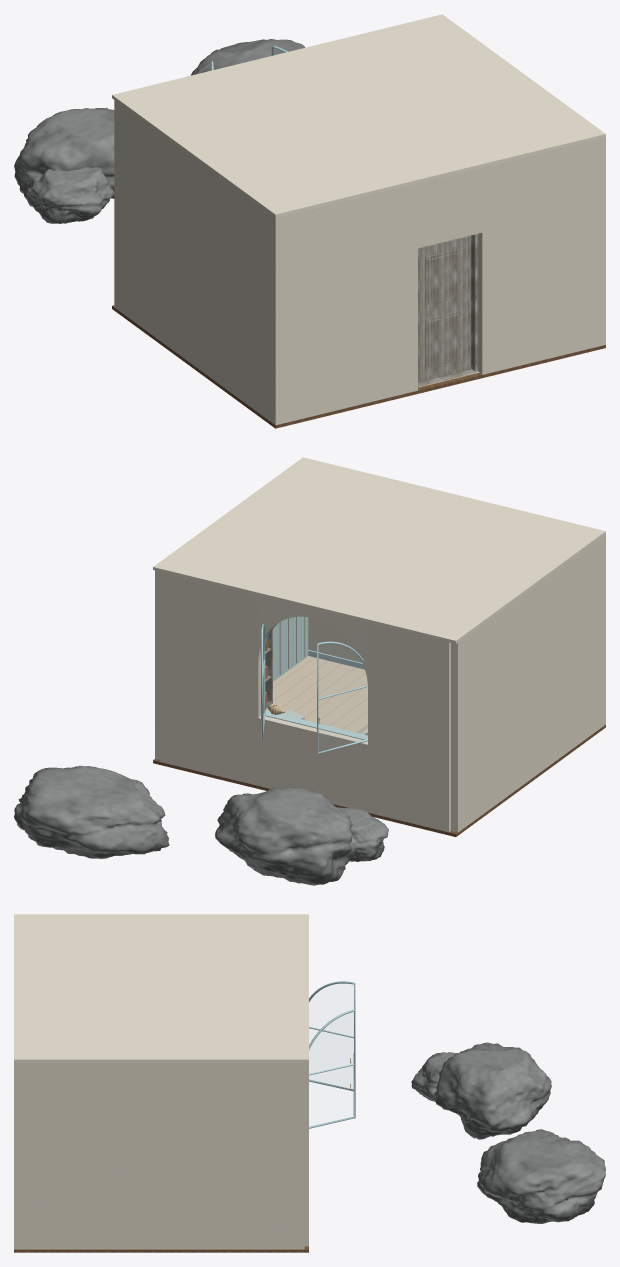
Rendered from beachfront.high.glb.
The picture shows the model from 3 angles, top to bottom: view 1: azimuth 30°, elevation 25°; view 2: azimuth 150°, elevation 25°; view 3: azimuth 270°, elevation 25°; orthographic projection. The views are drawn at different scales.
Parts seen in each view (by area): view 1: Room_Ceiling, Room_Wall_L, Room_Wall_F_L, Room_Wall_F_R, Beachfront_ShoreRock_0, Room_Wall_F_Top, Beachfront_ShoreRock_2, Door_Leaf, Room_Floor, Beachfront_ShoreRock_1, Door_Field_U_Inside, Door_Field_L_Inside (+3 smaller); view 2: Room_Ceiling, Room_Wall_L, Room_Wall_B_R, Room_Wall_B_L, Beachfront_ShoreRock_1, Beachfront_ShoreRock_0, Room_Wall_B_Bot, Beachfront_Arch_Wall, Beachfront_ShoreRock_2, Woodland_Static_moss_painted_joinery, Room_Floor, Room_Wall_F_R (+8 smaller); view 3: Room_Wall_R, Room_Ceiling, Beachfront_ShoreRock_1, Beachfront_ShoreRock_0, Room_Wall_F_R, Room_Floor, Beachfront_ShoreRock_2, Room_Wall_B_R, Beachfront_Casement_Right_Sash.
Part boxes in pixels (bbox=[...]): Room_Ceiling: bbox=[112, 14, 605, 217]; Room_Wall_L: bbox=[114, 100, 273, 421]; Room_Wall_F_L: bbox=[271, 183, 417, 425]; Room_Wall_F_R: bbox=[478, 137, 605, 374]; Beachfront_ShoreRock_0: bbox=[14, 107, 114, 198]; Room_Wall_F_Top: bbox=[418, 167, 482, 248]; Beachfront_ShoreRock_2: bbox=[26, 167, 114, 223]; Door_Leaf: bbox=[418, 235, 471, 382]; Room_Floor: bbox=[112, 305, 605, 428]; Beachfront_ShoreRock_1: bbox=[191, 39, 305, 75]; Door_Field_U_Inside: bbox=[428, 252, 460, 304]; Door_Field_L_Inside: bbox=[428, 314, 460, 366]; Room_Ceiling: bbox=[153, 457, 605, 643]; Room_Wall_L: bbox=[451, 536, 603, 832]; Room_Wall_B_R: bbox=[160, 572, 260, 785]; Room_Wall_B_L: bbox=[368, 622, 450, 832]; Beachfront_ShoreRock_1: bbox=[14, 765, 169, 858]; Beachfront_ShoreRock_0: bbox=[215, 787, 355, 885]; Room_Wall_B_Bot: bbox=[258, 716, 367, 812]; Beachfront_Arch_Wall: bbox=[258, 596, 367, 683]; Beachfront_ShoreRock_2: bbox=[337, 807, 388, 861]; Woodland_Static_moss_painted_joinery: bbox=[273, 616, 308, 681]; Room_Floor: bbox=[153, 724, 605, 836]; Room_Wall_F_R: bbox=[308, 617, 362, 662]; Room_Wall_R: bbox=[22, 1062, 304, 1249]; Room_Ceiling: bbox=[14, 914, 308, 1062]; Beachfront_ShoreRock_1: bbox=[477, 1129, 605, 1223]; Beachfront_ShoreRock_0: bbox=[434, 1042, 551, 1139]; Room_Wall_F_R: bbox=[14, 1062, 22, 1249]; Room_Floor: bbox=[14, 1246, 308, 1252]; Beachfront_ShoreRock_2: bbox=[411, 1052, 458, 1102]; Room_Wall_B_R: bbox=[304, 1062, 308, 1246]; Beachfront_Casement_Right_Sash: bbox=[309, 1009, 355, 1128].
Bounding box in the file's own units: 5.47 × 3.25 × 9.03.
Materials: 77 (39 with a texture image).
